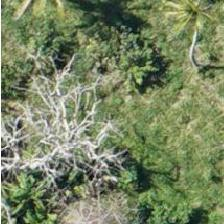Kelapa_Sawit: (152, 0, 224, 52)
